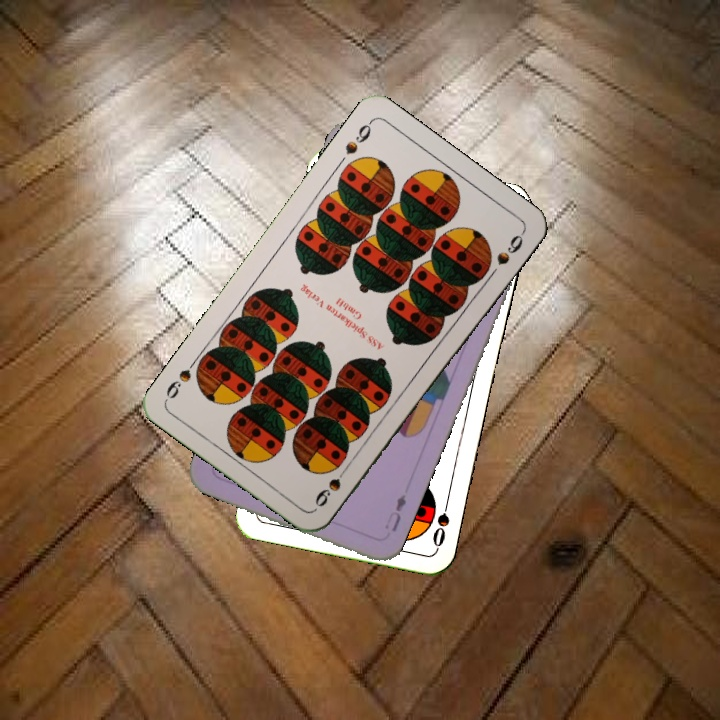EU: (380, 490, 409, 535)
S9: (310, 460, 352, 510), (341, 117, 375, 157)
SO: (428, 492, 453, 551)
